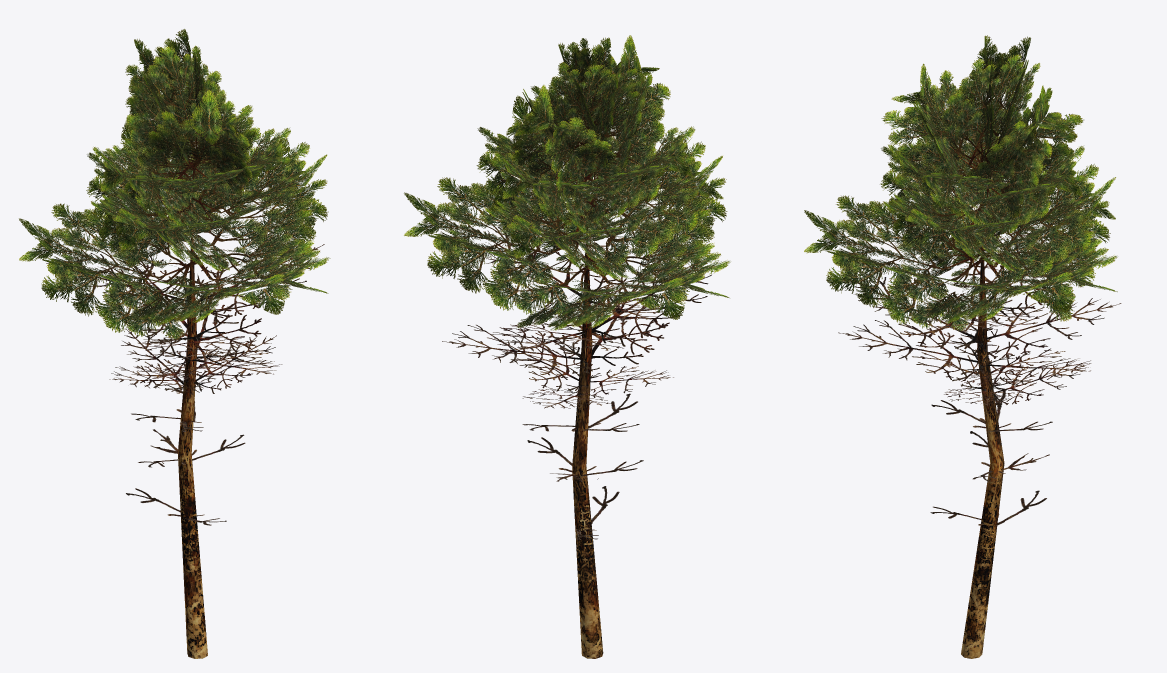
File: flora_tree_pine_maritime_v2.glb
3 views of the same model, side by side, from view 1: azimuth 30°, elevation 25°; view 2: azimuth 150°, elevation 25°; view 3: azimuth 270°, elevation 25° (orthographic). The views are drawn at different scales.
Parts seen in each view (by area): view 1: flora_tree_pine_maritime_v2_part1, flora_tree_pine_maritime_v2_part0; view 2: flora_tree_pine_maritime_v2_part1, flora_tree_pine_maritime_v2_part0; view 3: flora_tree_pine_maritime_v2_part1, flora_tree_pine_maritime_v2_part0.
Part boxes in pixels (x1,y1,x2,y2): flora_tree_pine_maritime_v2_part1: [19, 29, 330, 339]; flora_tree_pine_maritime_v2_part0: [46, 231, 324, 658]; flora_tree_pine_maritime_v2_part1: [404, 35, 730, 330]; flora_tree_pine_maritime_v2_part0: [442, 226, 711, 658]; flora_tree_pine_maritime_v2_part1: [804, 35, 1117, 331]; flora_tree_pine_maritime_v2_part0: [838, 225, 1121, 658].
Bounding box in the file's own units: 14.76 × 24.54 × 12.71.
Materials: 2 (2 with a texture image).
